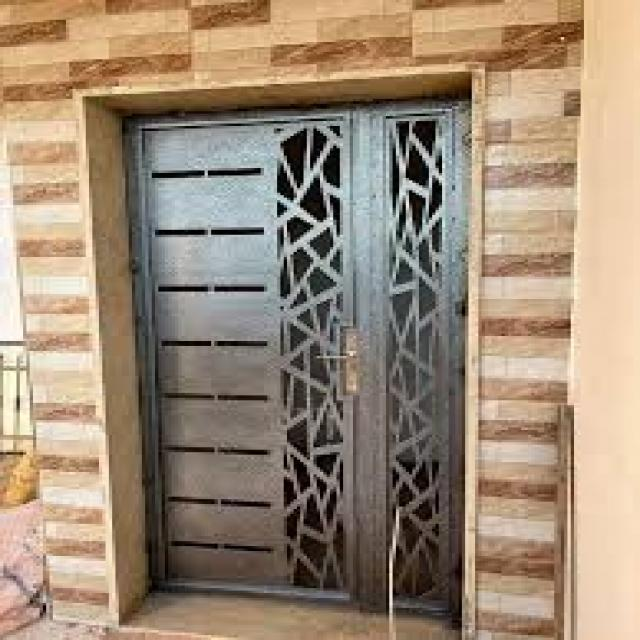door: (92, 79, 474, 633), (479, 134, 638, 178)
